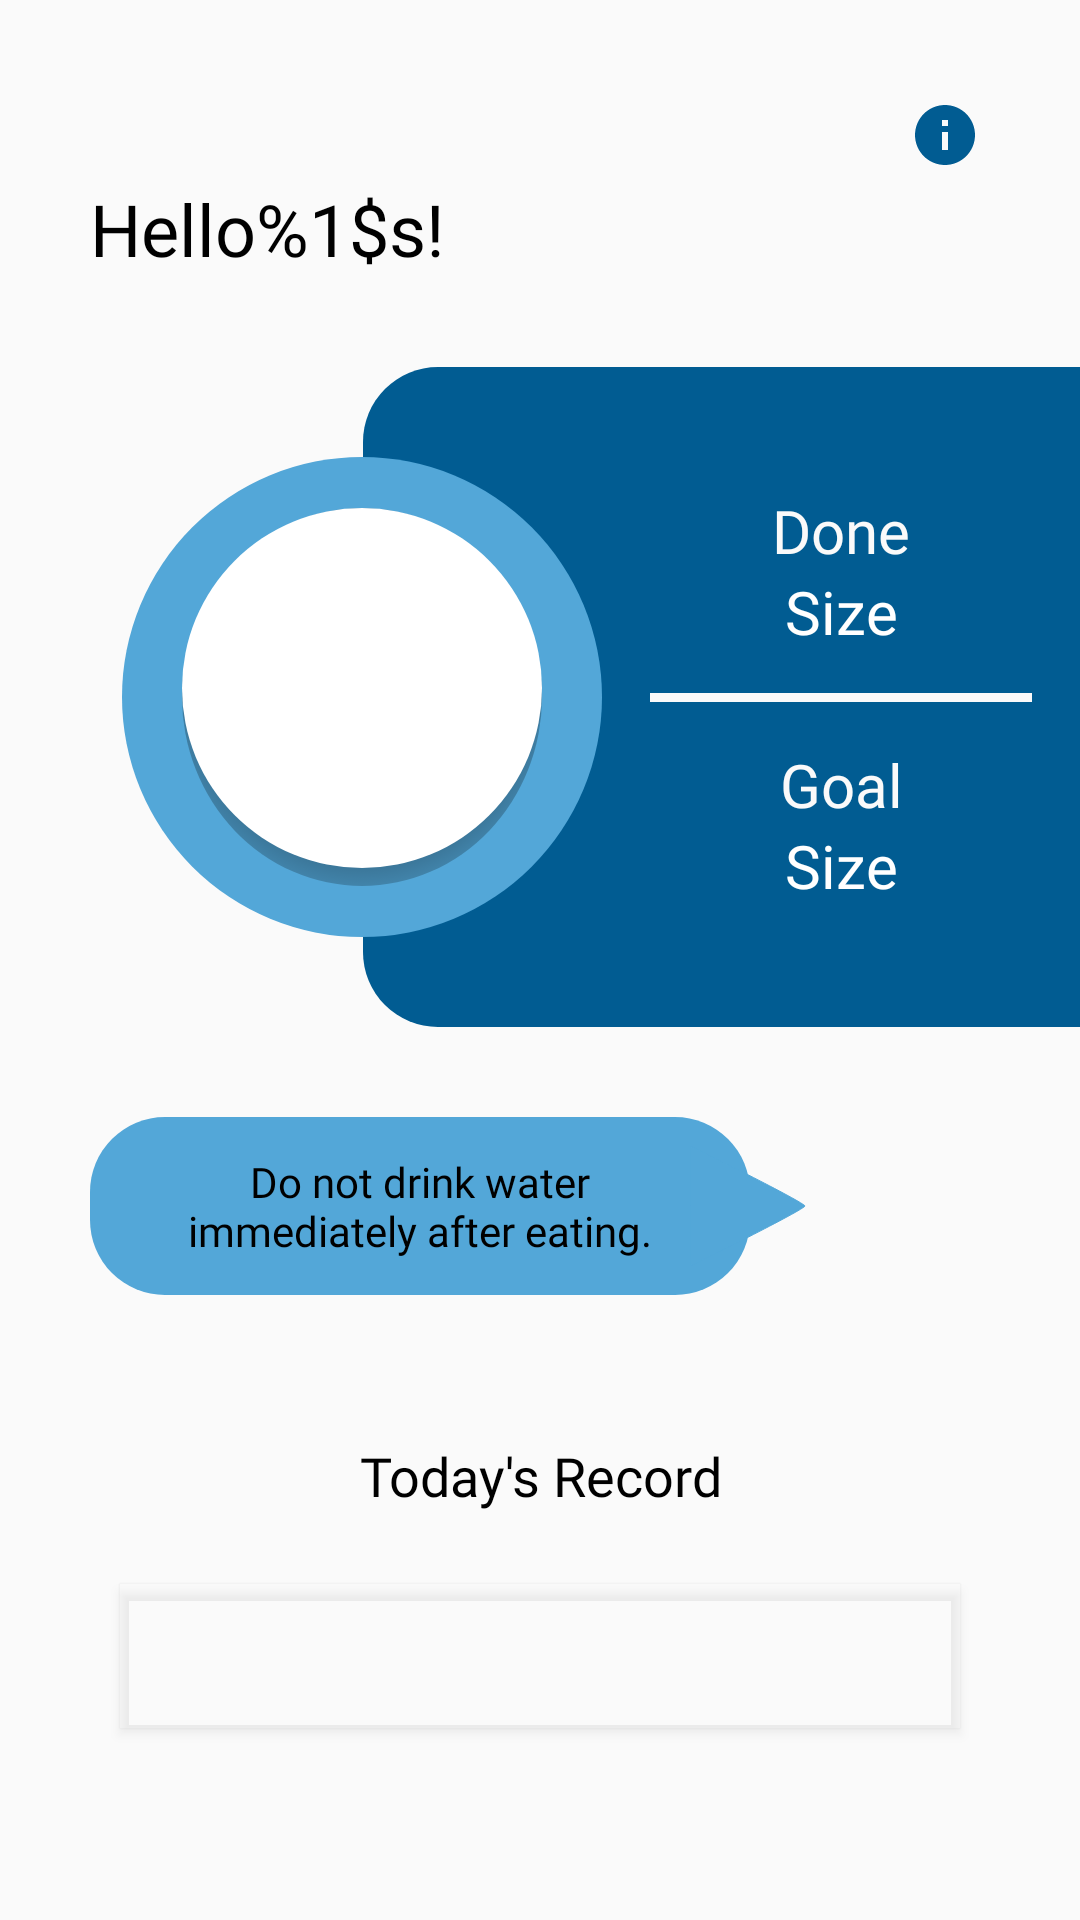

Point at icon controls on the screen. Image size 1080px x 1920px, points as (x=x, y=y).
this is information button: (x=945, y=135)
